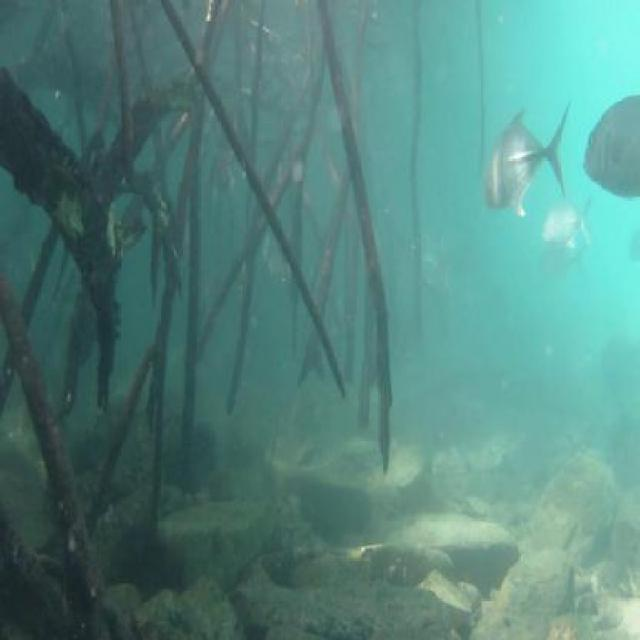Caranx_sexfasciatus_juvenile: (482, 98, 566, 216), (581, 85, 640, 205), (532, 187, 596, 251), (200, 140, 246, 211), (535, 234, 590, 291), (209, 106, 254, 156)
